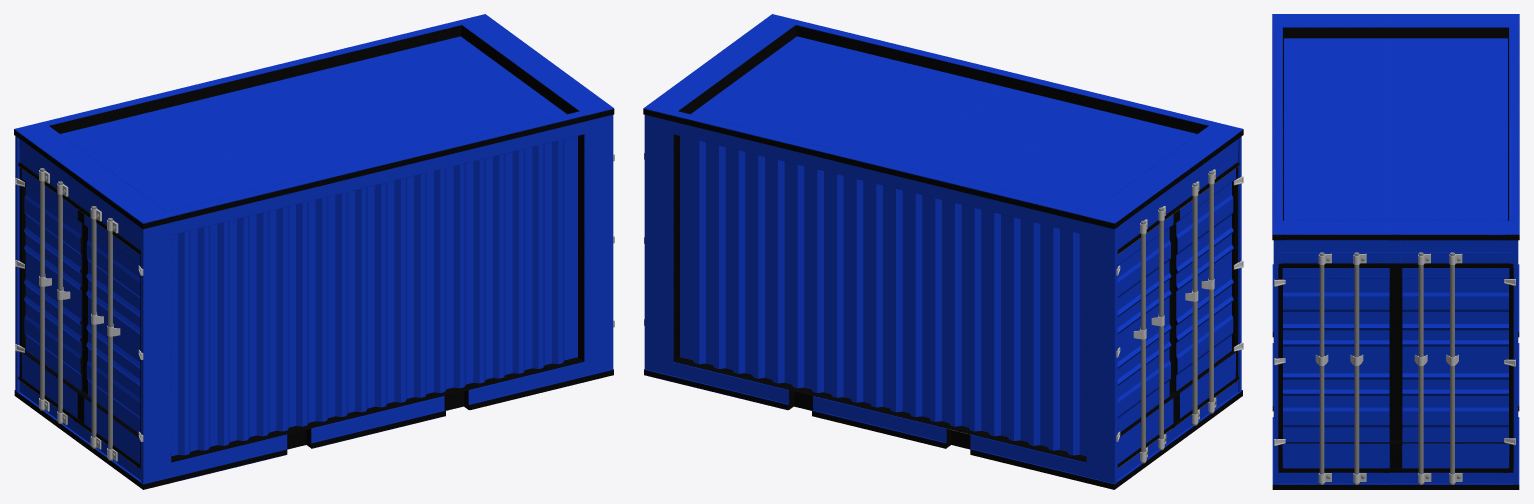
The model's file is shipping_container.glb.
The picture shows the model from 3 angles, left to right: view 1: azimuth 30°, elevation 25°; view 2: azimuth 150°, elevation 25°; view 3: azimuth 270°, elevation 25°; orthographic projection. The views are drawn at different scales.
Parts seen in each view (by area): view 1: big_container_2; view 2: big_container_2; view 3: big_container_2.
Boxes of the visible parts, <box> form: big_container_2: <box>14,14,614,489</box>; big_container_2: <box>643,14,1243,489</box>; big_container_2: <box>1272,14,1519,489</box>.
Size of the model in its own units: 750 by 400 by 350.
1 material, 1 textured.
